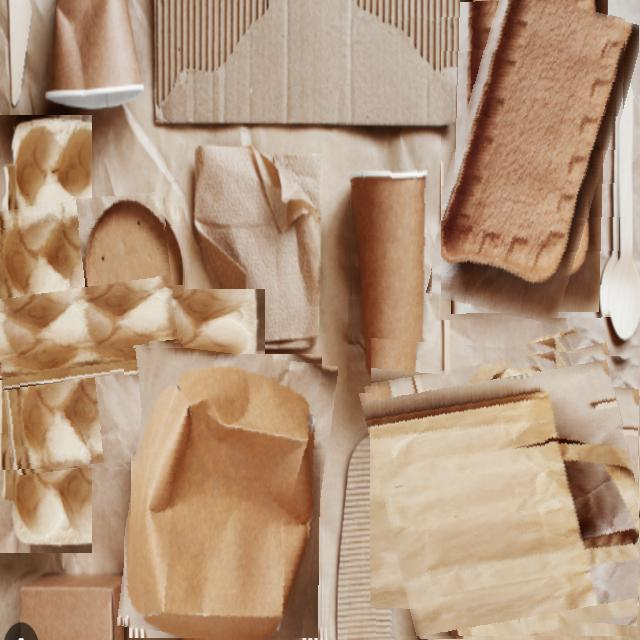biodegradable: (371, 338, 640, 636), (124, 348, 330, 640), (441, 0, 626, 320), (0, 196, 185, 470), (348, 149, 432, 393)
